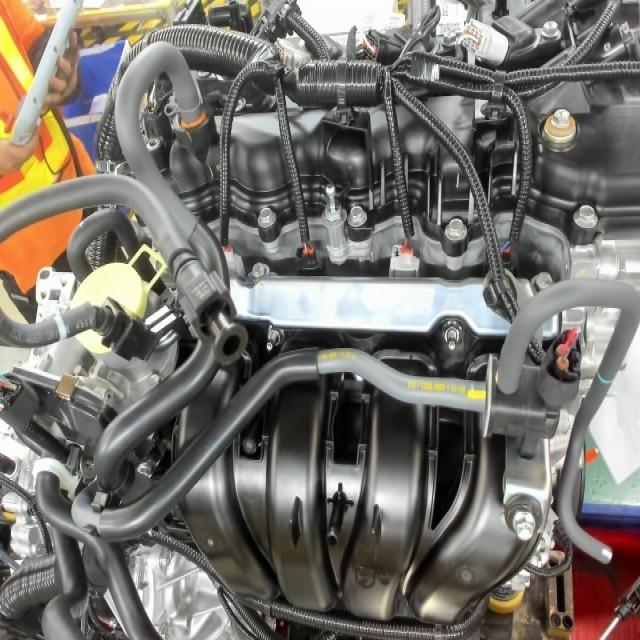Hose Canister-HJ: (595, 368, 616, 389)
Tube Sub Assy Fuel-W: (49, 307, 72, 344)
